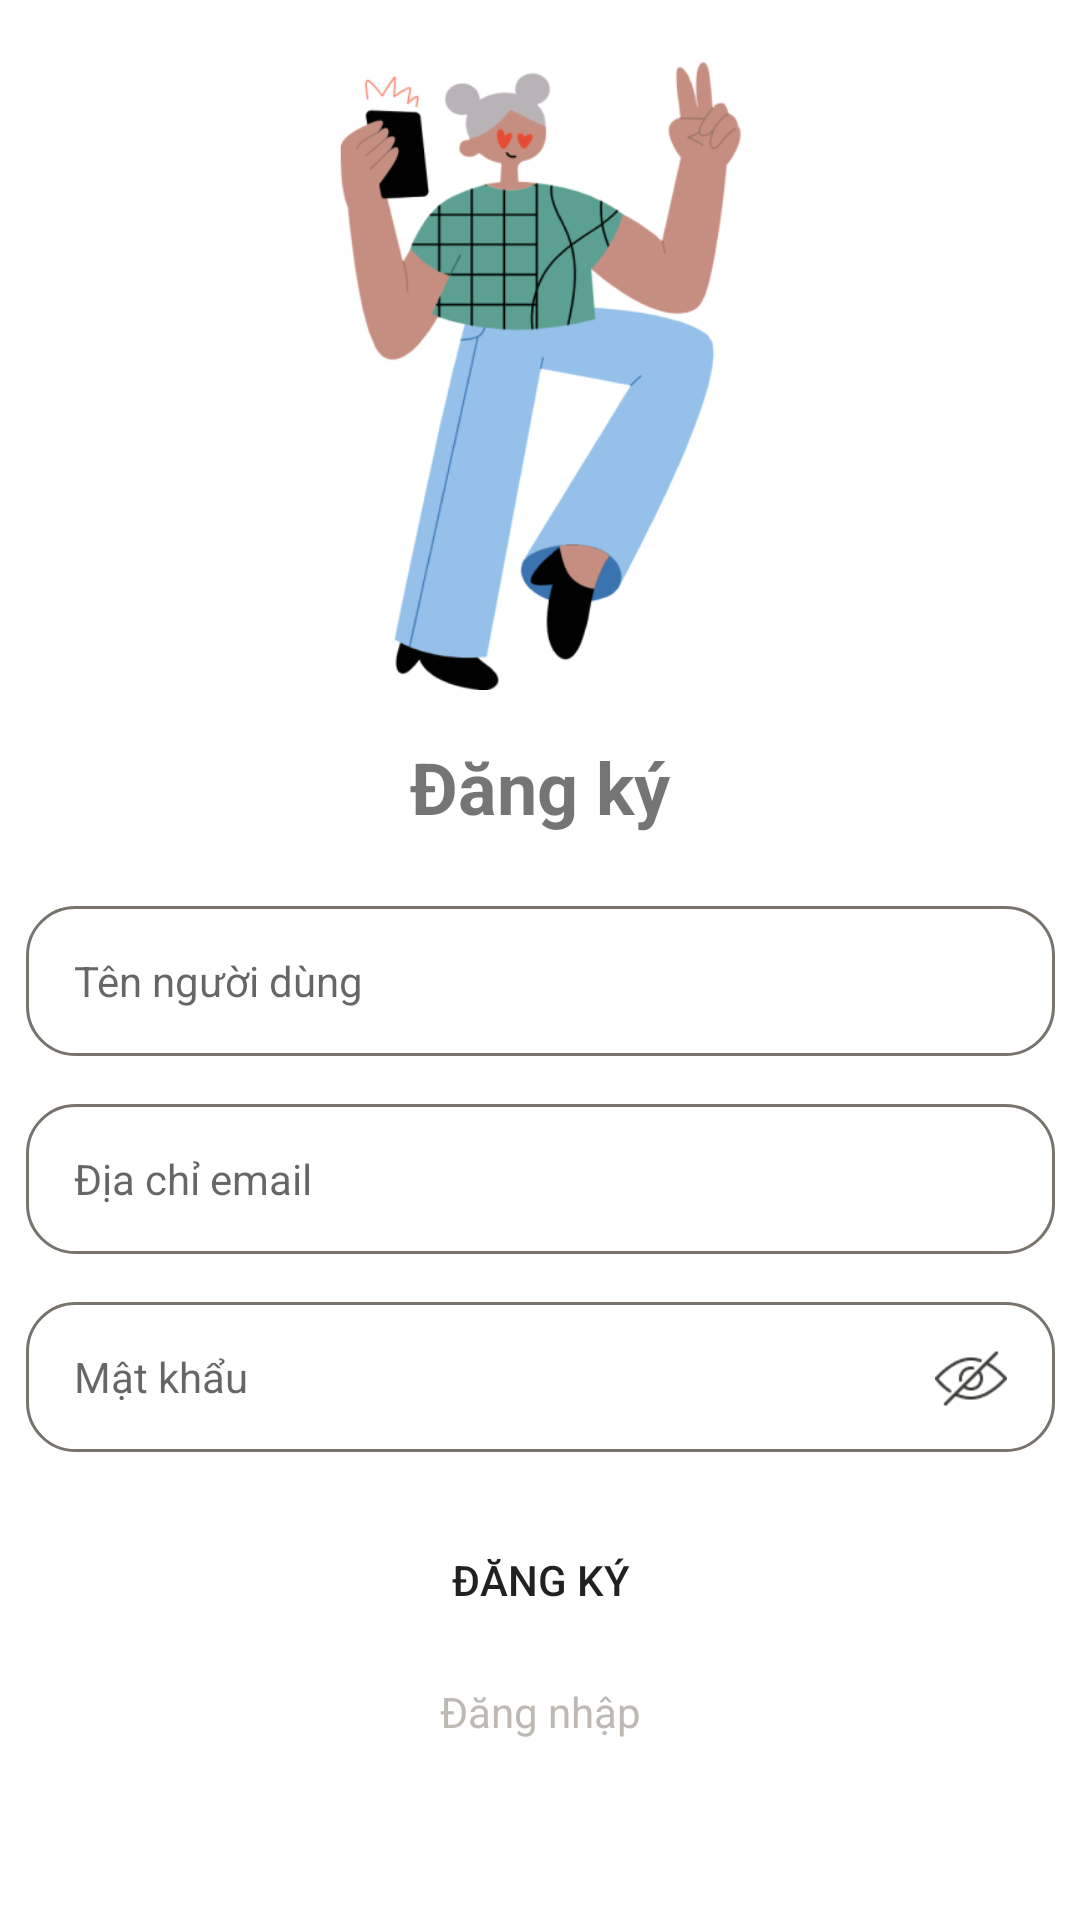

Where to tap for icons on this 1080w x 1920h app screen, as (x=x, y=y):
hiden password: (x=971, y=1378)
